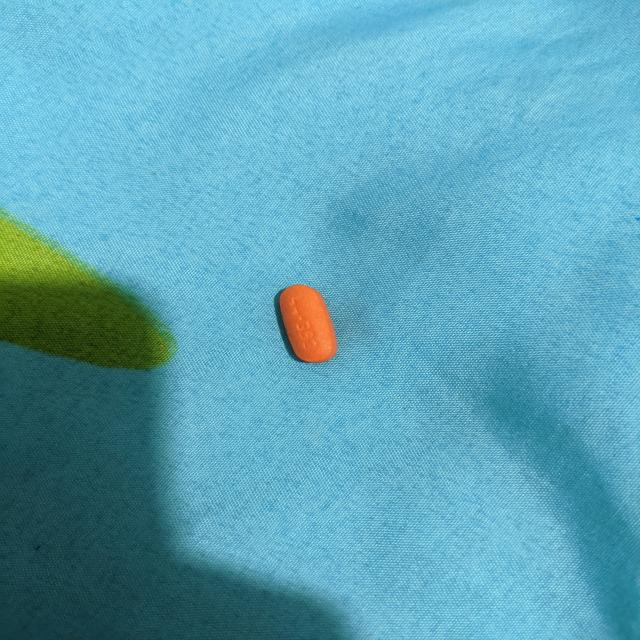non-organic waste: (278, 283, 339, 364)
